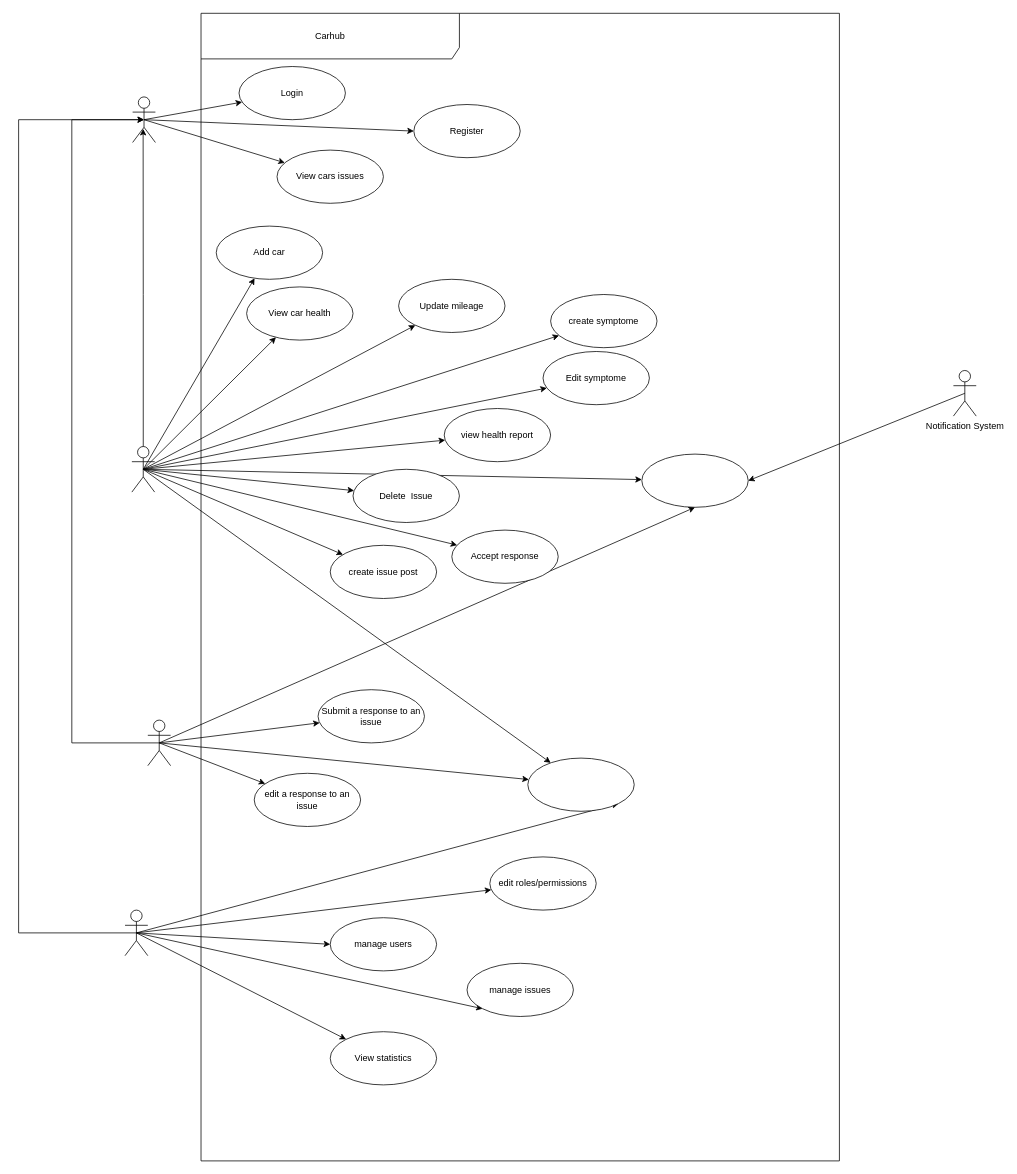
This 1017x1174 diagram has some shape labels left out. The centre of each missing label's shape, as x and y in pixels:
Admin: point 136,932
Driver: point 143,469
edit profile: point 580,784
Expert: point 159,742
Guest: point 143,119
Receive alert: point 694,480
